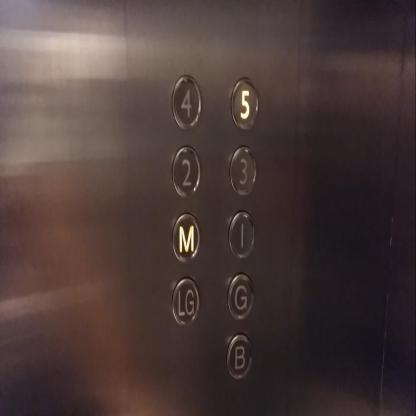1: (227, 207, 255, 258)
2: (171, 144, 201, 198)
3: (229, 143, 256, 196)
4: (171, 73, 202, 130)
5: (230, 76, 258, 130)
B: (226, 331, 252, 380)
G: (226, 270, 254, 320)
LG: (171, 274, 200, 327)
M: (171, 210, 200, 263)
